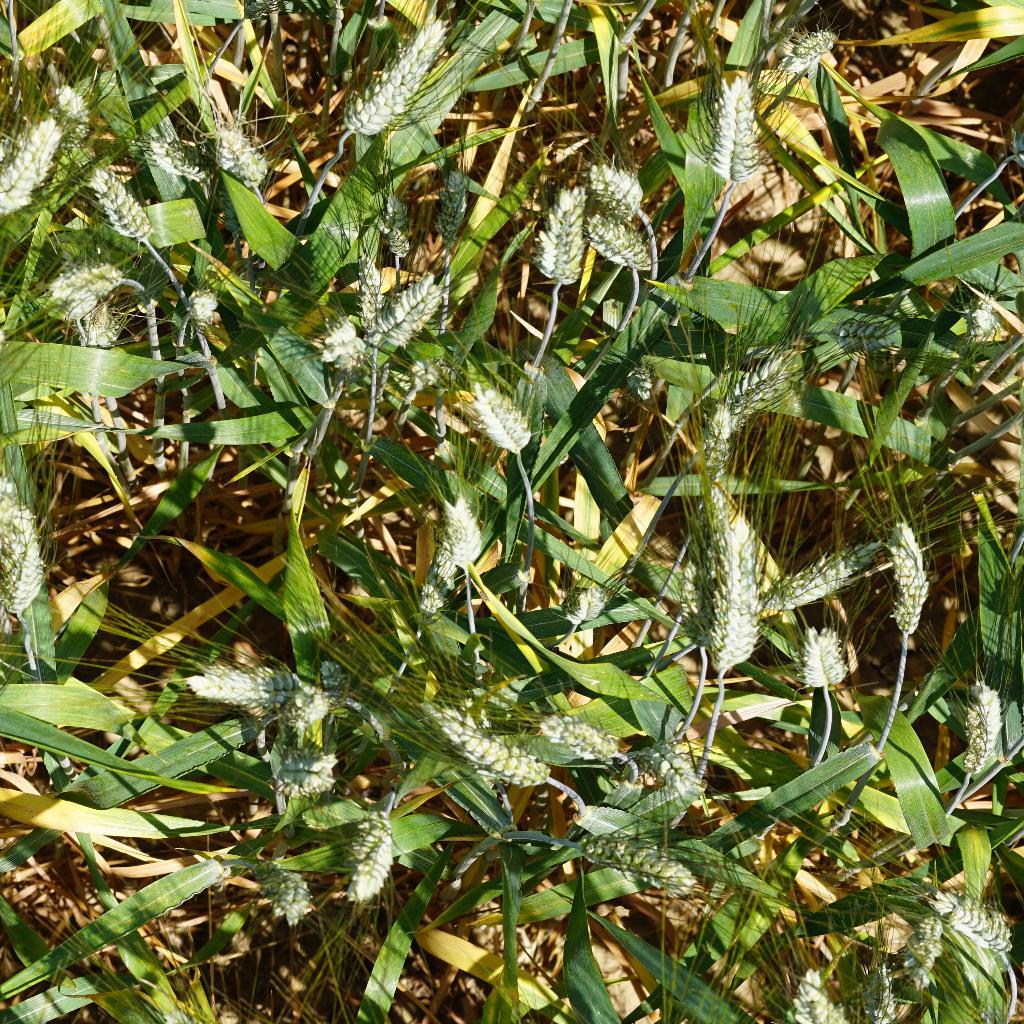0-0: (324, 10, 451, 148), (686, 482, 762, 683), (428, 706, 565, 802), (690, 55, 769, 201), (755, 535, 888, 620), (916, 874, 1019, 979), (579, 825, 706, 904), (366, 268, 467, 362), (0, 467, 63, 617), (874, 511, 944, 642), (332, 795, 415, 905), (176, 642, 283, 722), (27, 246, 138, 318), (679, 497, 730, 651), (531, 167, 594, 291), (231, 847, 320, 933), (709, 344, 803, 425), (77, 169, 163, 256), (561, 194, 649, 279), (538, 695, 634, 772), (135, 112, 227, 189), (624, 720, 709, 803), (952, 662, 1008, 783), (202, 94, 276, 183), (423, 159, 490, 254), (0, 115, 66, 210), (580, 154, 664, 224), (466, 377, 537, 459), (793, 610, 856, 695), (344, 250, 391, 362), (279, 736, 350, 807), (781, 23, 855, 88), (904, 901, 953, 996), (437, 489, 493, 572), (563, 574, 623, 645), (953, 275, 1011, 346), (684, 404, 739, 478), (276, 676, 340, 739), (410, 530, 451, 627), (307, 309, 372, 369), (856, 955, 912, 1024), (818, 316, 905, 359), (369, 183, 414, 266), (163, 277, 232, 329), (48, 70, 97, 141), (798, 970, 858, 1024), (79, 296, 122, 356), (619, 358, 657, 403), (403, 356, 447, 394)
